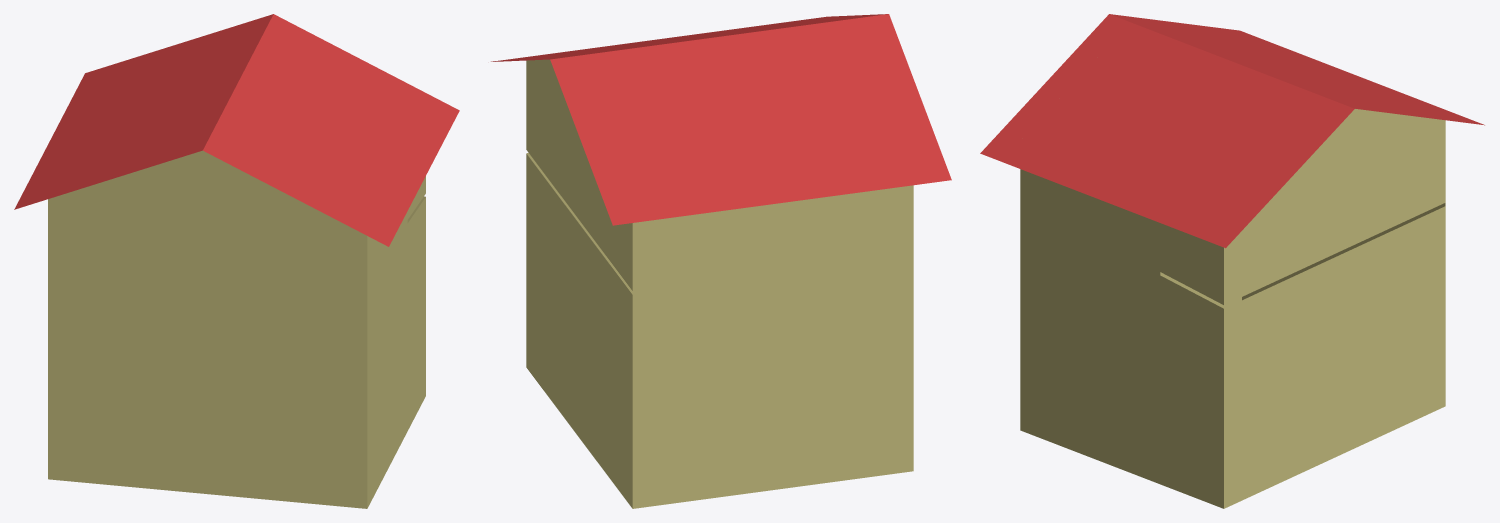
3 renders of one model, left to right at view 1: azimuth 30°, elevation 25°; view 2: azimuth 150°, elevation 25°; view 3: azimuth 270°, elevation 25°, orthographic. The views are drawn at different scales.
Size of the model in its own units: 13.42 by 13.33 by 10.39.
